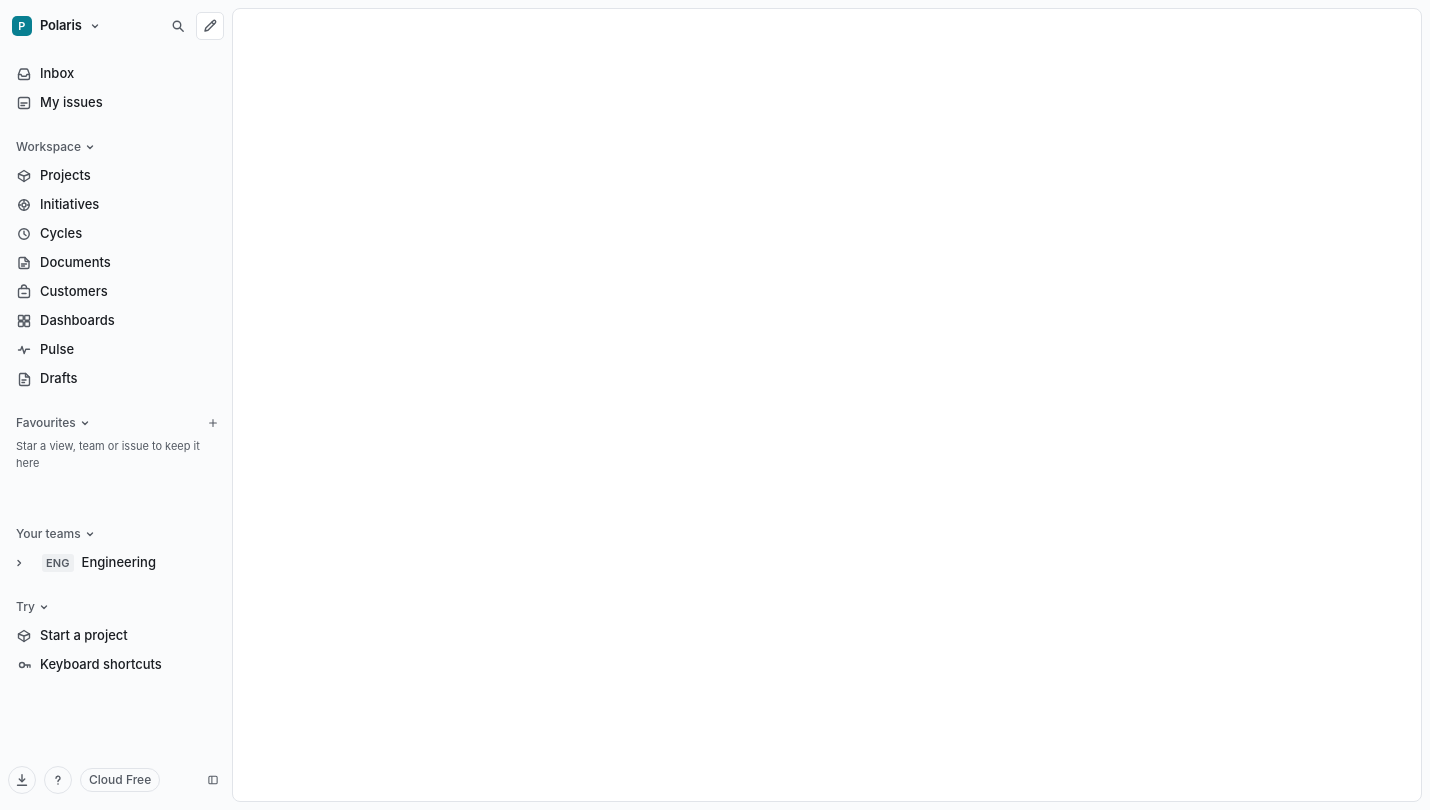
Test case: the foot of the sidebar › offers the desktop builds from a download button
Click the button named "Download apps" at {"x": 22, "y": 780}, box [8,766,36,794]
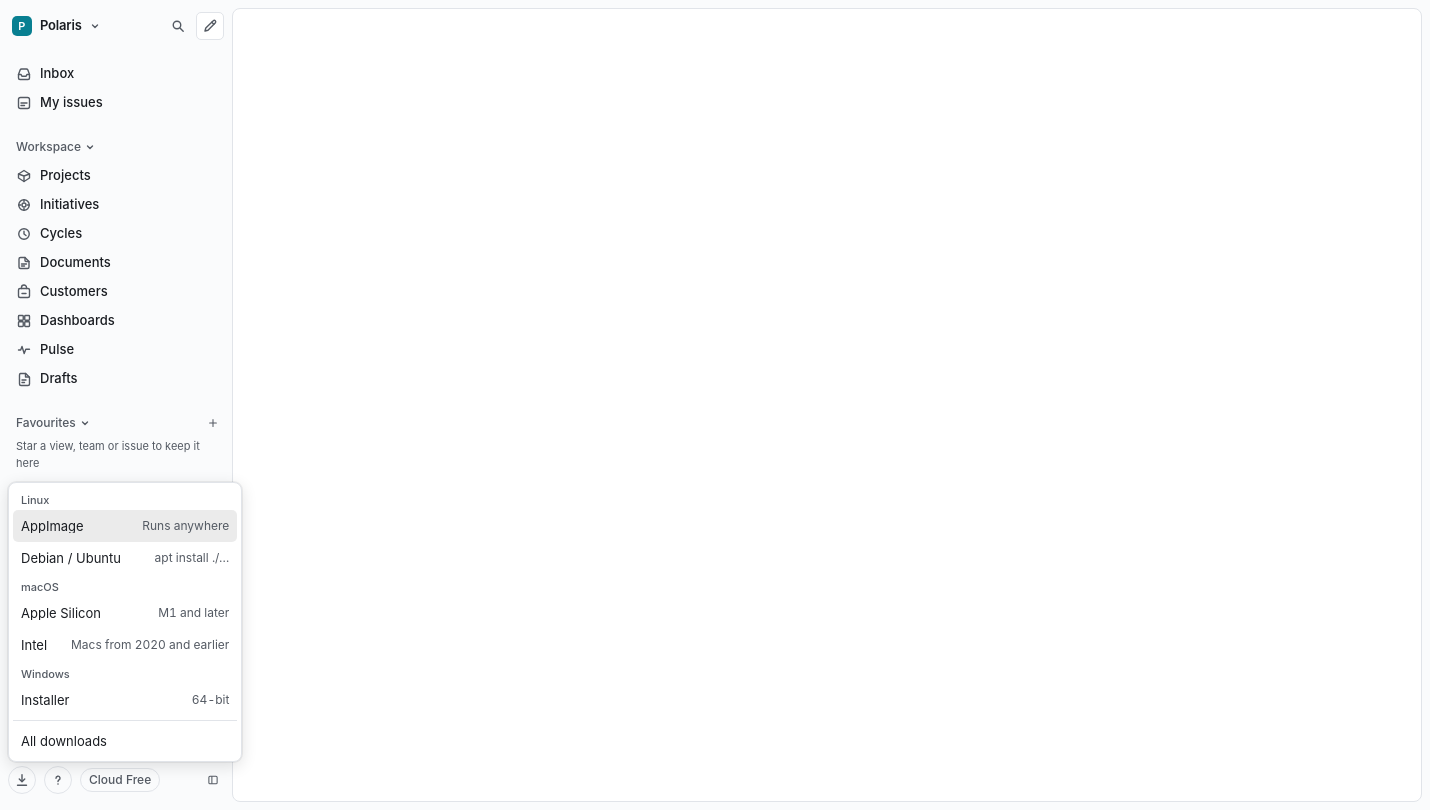
expect the menu item "Apple Silicon M1 and later" is shown: met, box [21,604,229,620]
expect the menu item "Installer 64-bit" is shown: met, box [21,692,229,708]
expect the menu item "AppImage Runs anywhere" is shown: met, box [13,510,237,542]
